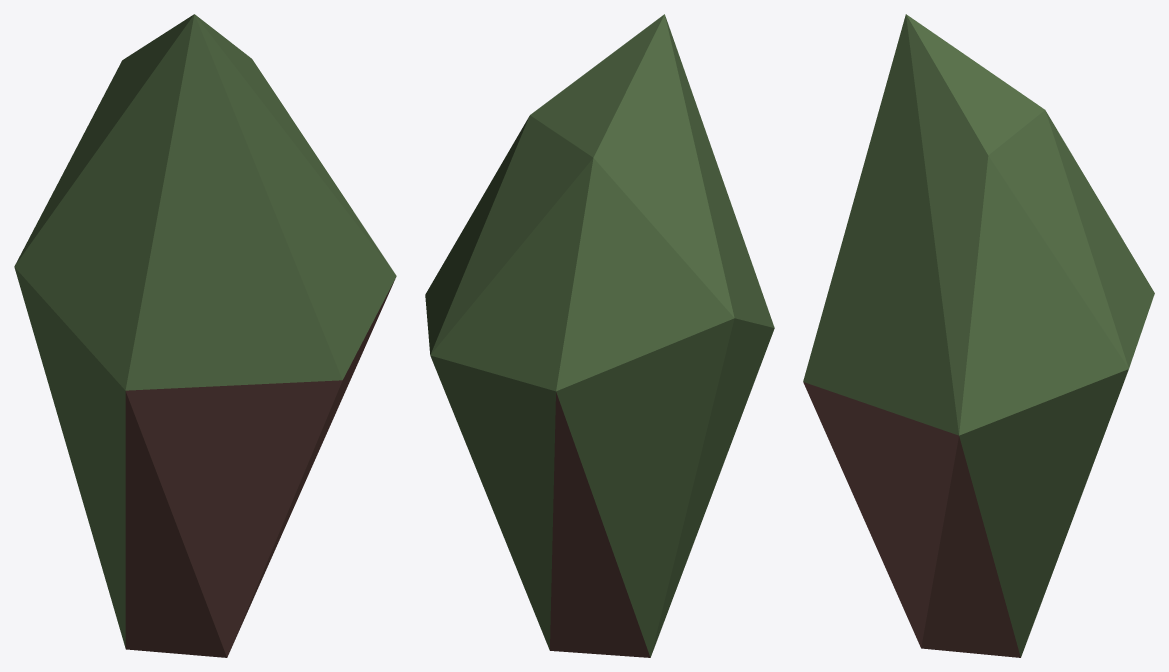
File: PineTree_5.lod4.glb
The picture shows the model from 3 angles, left to right: view 1: azimuth 30°, elevation 25°; view 2: azimuth 150°, elevation 25°; view 3: azimuth 270°, elevation 25°; orthographic projection. The views are drawn at different scales.
Visible parts, largest first — view 1: PineTree_5; view 2: PineTree_5; view 3: PineTree_5.
Part boxes in pixels (bbox=[...]): PineTree_5: bbox=[14, 14, 396, 657]; PineTree_5: bbox=[425, 14, 774, 657]; PineTree_5: bbox=[803, 14, 1154, 657].
Bounding box in the file's own units: 1.54 × 2.71 × 1.4.
